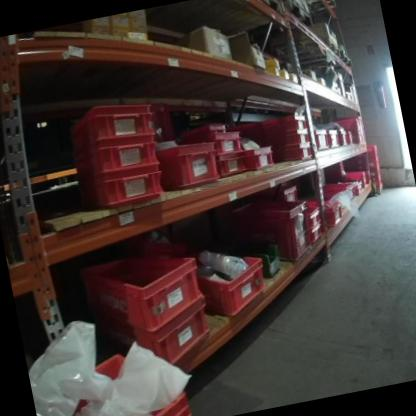pallet: (177, 0, 287, 42), (269, 34, 341, 78), (286, 48, 354, 82), (281, 0, 319, 38)
small_load_carrier: (71, 234, 210, 344), (51, 340, 196, 416), (93, 298, 217, 378), (190, 236, 273, 322), (232, 192, 317, 273), (61, 92, 158, 152), (66, 133, 165, 184), (73, 164, 165, 215), (152, 134, 223, 197), (232, 106, 308, 144), (178, 128, 245, 160), (271, 142, 316, 171), (177, 118, 228, 143), (319, 176, 357, 209), (260, 127, 310, 152), (316, 197, 349, 234), (214, 148, 250, 181), (244, 143, 280, 175), (306, 217, 335, 249), (299, 196, 326, 230), (272, 179, 301, 207), (334, 113, 364, 134), (313, 126, 330, 152), (349, 177, 368, 199), (347, 167, 367, 187), (323, 125, 339, 149), (333, 125, 349, 145), (348, 132, 365, 148), (366, 145, 379, 160), (368, 157, 382, 170), (371, 177, 384, 189), (369, 168, 383, 179), (363, 171, 371, 184)
